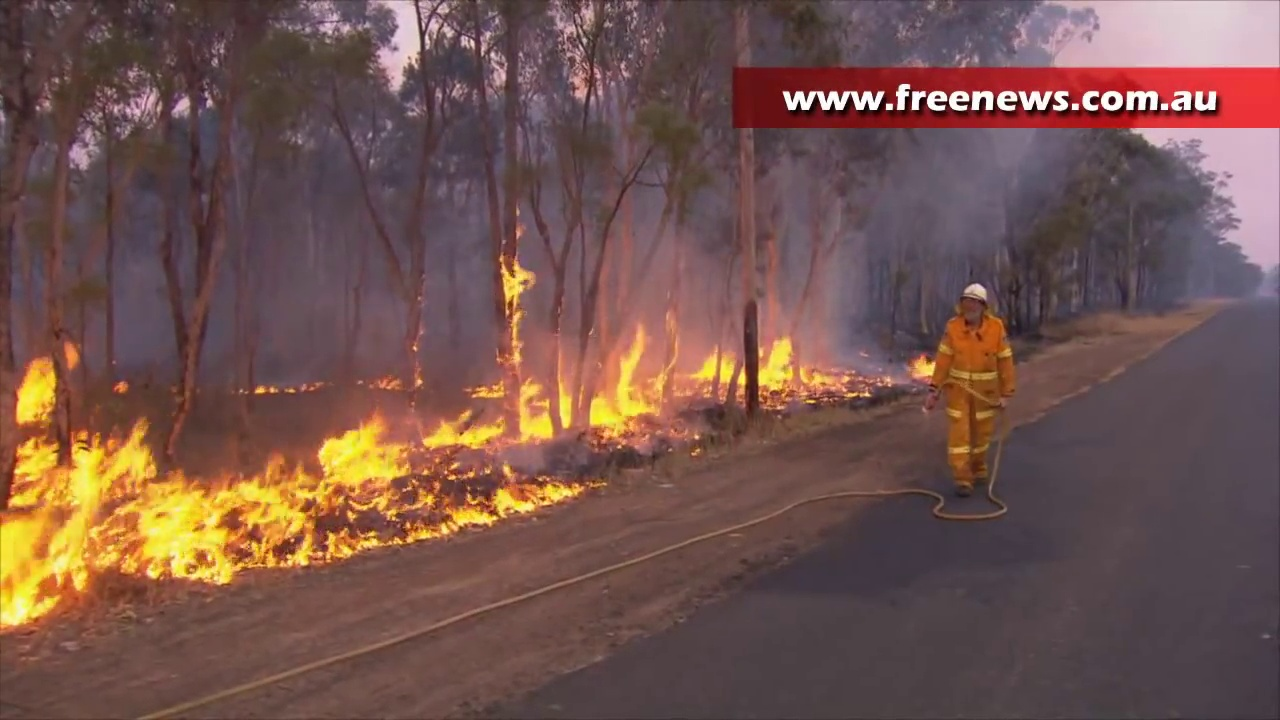fire: (2, 396, 577, 620), (579, 329, 662, 431), (702, 341, 791, 391), (14, 347, 59, 426), (491, 253, 531, 304)
